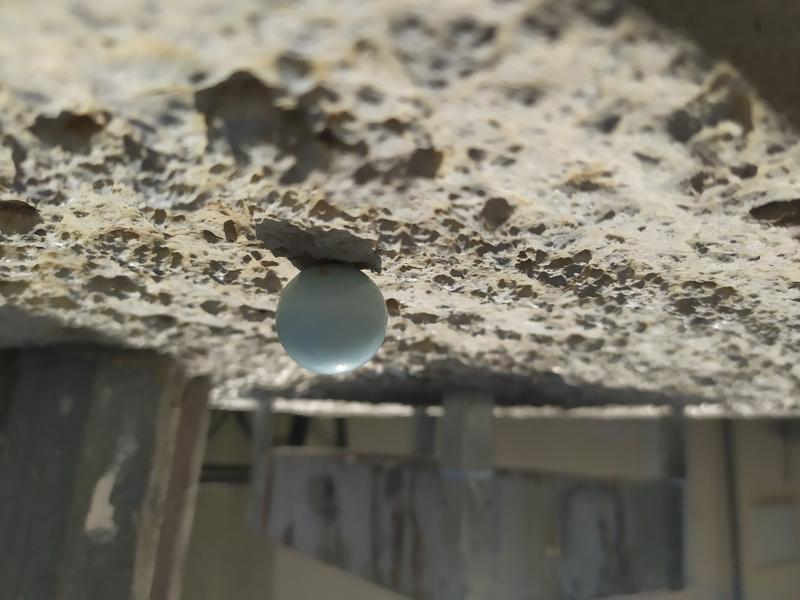Warning: (272, 259, 392, 378)
